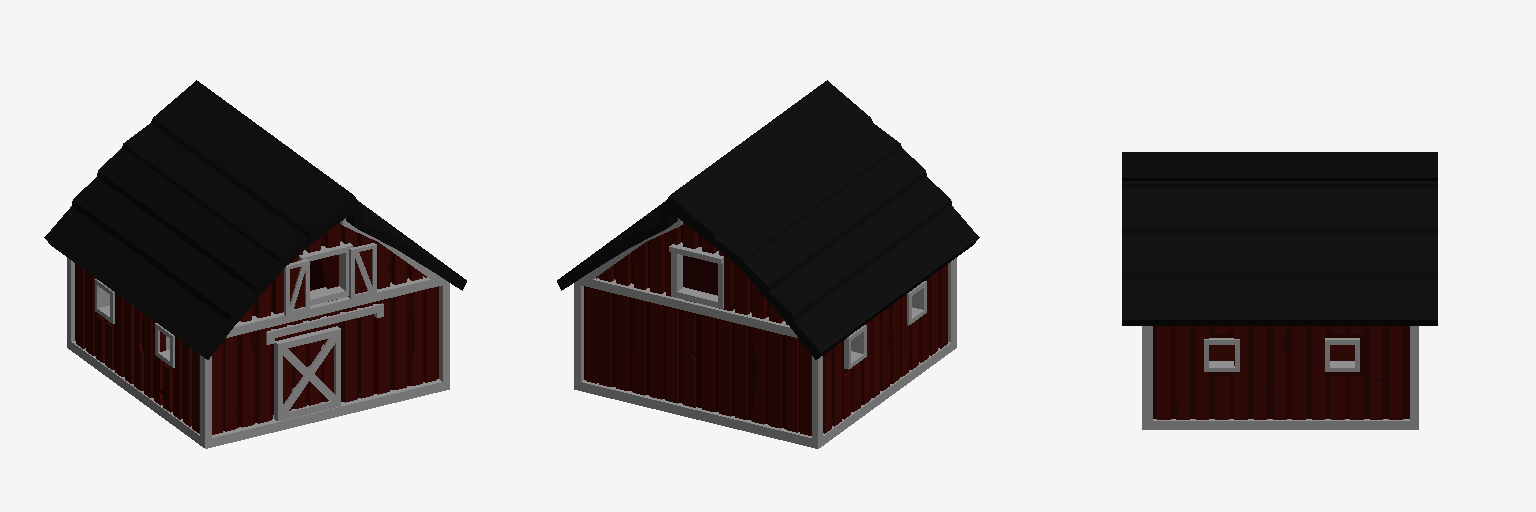
Rendered from SmallBarn.obj.
3 renders of one model, left to right at view 1: azimuth 30°, elevation 25°; view 2: azimuth 150°, elevation 25°; view 3: azimuth 270°, elevation 25°, orthographic.
Parts seen in each view (by area): view 1: Small_Barn_Cube.013, Small_Barn_Door_Cube.008, SmallBarn_Window_Cube.023, SmallBarn_Window2_Cube.022; view 2: Small_Barn_Cube.013; view 3: Small_Barn_Cube.013.
Part boxes in pixels (bbox=[...]): Small_Barn_Cube.013: bbox=[44, 80, 466, 448]; Small_Barn_Door_Cube.008: bbox=[274, 326, 340, 420]; SmallBarn_Window_Cube.023: bbox=[349, 243, 376, 298]; SmallBarn_Window2_Cube.022: bbox=[284, 259, 309, 315]; Small_Barn_Cube.013: bbox=[557, 80, 979, 448]; Small_Barn_Cube.013: bbox=[1122, 152, 1437, 429].
Size of the model in its own units: 6.08 by 4.96 by 6.27.